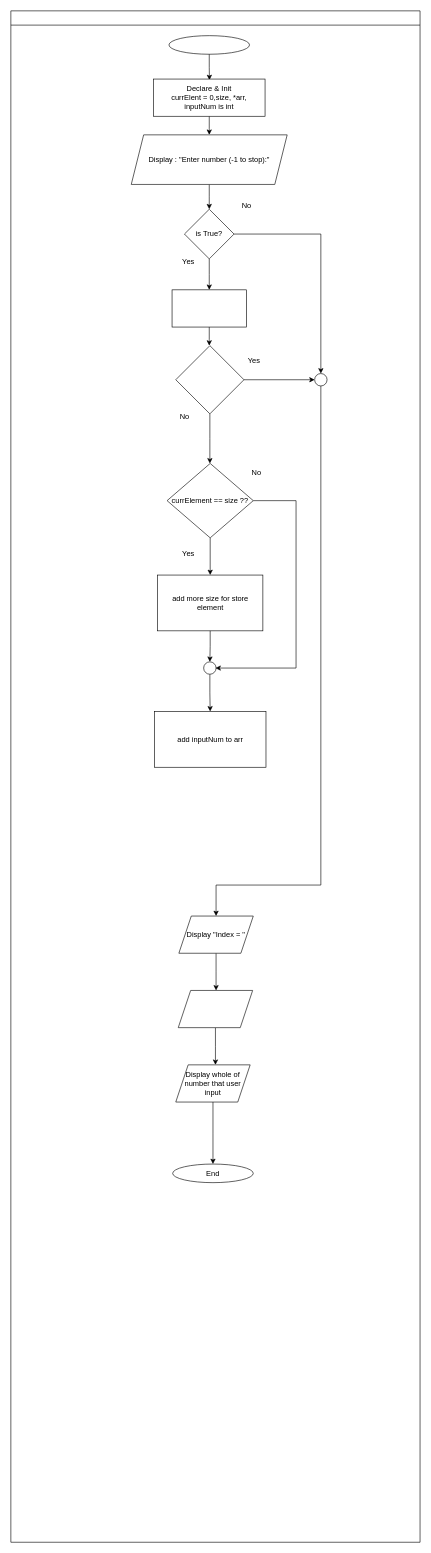
Image size: 431x1553. Some labels were removed from this diagram. The shapes that lost their labels are listed below. From the top down, each one's box as (x1, y1, x2, y2) in pixels, then its label:
(168, 35, 250, 54): Start
(171, 289, 246, 327): Read inputNum
(175, 345, 244, 414): inputNum == -1 ?
(178, 990, 253, 1028): Display whole of index of array
